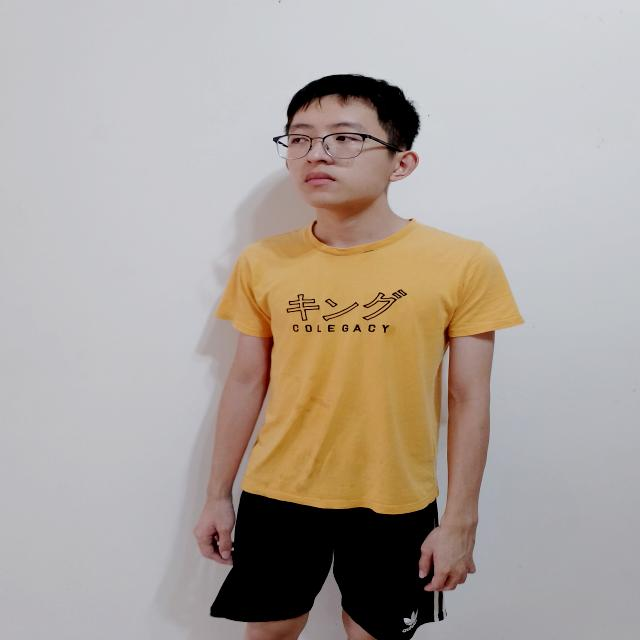person_without_labcoat: (195, 75, 522, 640)
